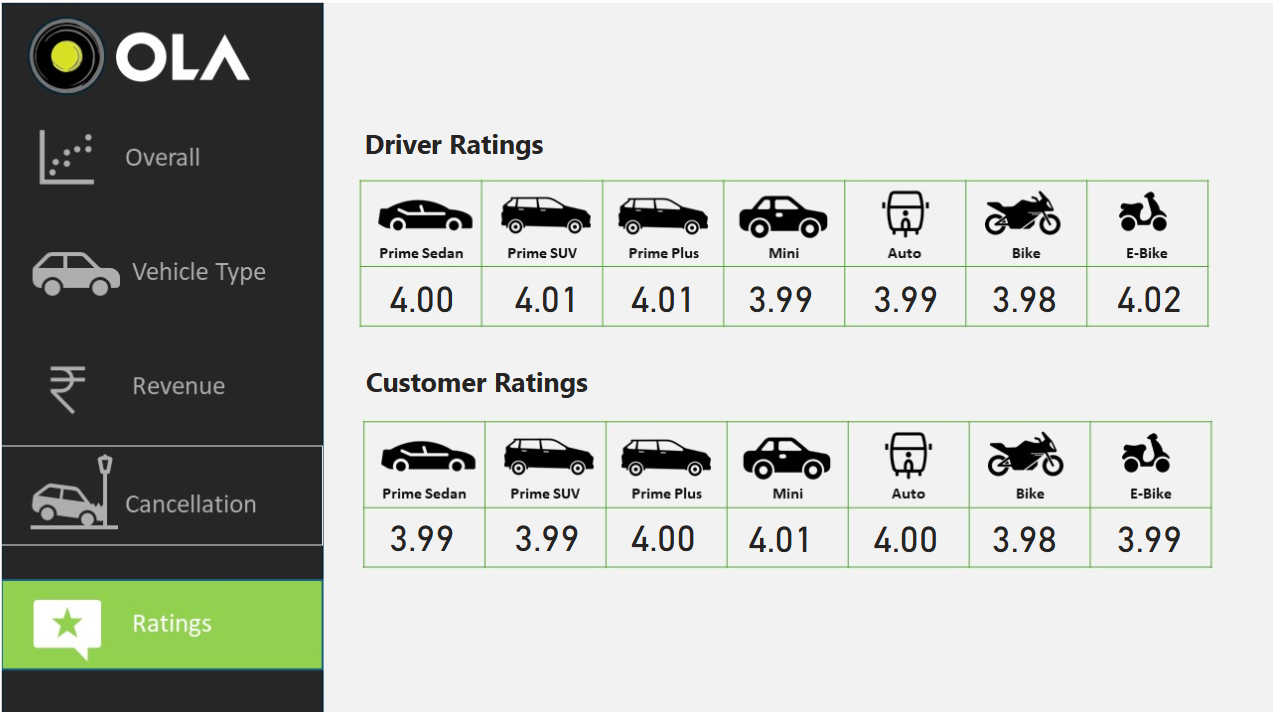

The page's visual inventory and layout, read from the dashboard file:
{"tool":"powerbi","page":{"name":"Rating","canvas":[1280,720],"ordinal":4},"visuals":[{"type":"image","box":[0,0,1280,720],"z":0},{"type":"actionButton","box":[0,226.2,326.2,92.5],"z":1000},{"type":"actionButton","box":[0,346.2,326.2,92.5],"z":2000},{"type":"actionButton","box":[0,447.5,326.2,100],"z":3000},{"type":"actionButton","box":[0,113.8,326.2,92.5],"z":4000},{"type":"card","fields":{"Values":["Avg(July.Driver_Ratings)"]},"box":[362.5,268.8,125,58.8],"z":5000},{"type":"card","fields":{"Values":["Avg(July.Driver_Ratings)"]},"box":[487.5,268.8,125,58.8],"z":6000},{"type":"card","fields":{"Values":["Avg(July.Driver_Ratings)"]},"box":[603.8,268.8,125,58.8],"z":7000},{"type":"card","fields":{"Values":["Avg(July.Driver_Ratings)"]},"box":[721.7,269.2,125,58.3],"z":8000},{"type":"card","fields":{"Values":["Avg(July.Driver_Ratings)"]},"box":[846.7,269.2,125,58.3],"z":9000},{"type":"card","fields":{"Values":["Avg(July.Driver_Ratings)"]},"box":[965,269.2,125,58.3],"z":10000},{"type":"card","fields":{"Values":["Avg(July.Driver_Ratings)"]},"box":[1090,269.2,125,58.3],"z":11000},{"type":"card","fields":{"Values":["Avg(July.Customer_Rating)"]},"box":[362.5,507.8,125,58.8],"z":12000},{"type":"card","fields":{"Values":["Avg(July.Customer_Rating)"]},"box":[487.5,507.8,125,58.8],"z":13000},{"type":"card","fields":{"Values":["Avg(July.Customer_Rating)"]},"box":[603.8,507.8,125,58.8],"z":14000},{"type":"card","fields":{"Values":["Avg(July.Customer_Rating)"]},"box":[721.7,508.2,125,58.3],"z":15000},{"type":"card","fields":{"Values":["Avg(July.Customer_Rating)"]},"box":[846.7,508.2,125,58.3],"z":16000},{"type":"card","fields":{"Values":["Avg(July.Customer_Rating)"]},"box":[965,508.2,125,58.3],"z":17000},{"type":"card","fields":{"Values":["Avg(July.Customer_Rating)"]},"box":[1090,508.2,125,58.3],"z":18000},{"type":"textbox","box":[362.5,122.5,226.2,57.5],"z":19000},{"type":"textbox","box":[363.8,360,260,57.5],"z":20000}]}

Visuals, with their boxes on the page's 1280x720 design canvas (x1, y1, x2, y2). These are canvas units, not pixel positions in the 1276x712 screenshot, which may show the page scaled, cropped or inside an application window:
image: region(0, 0, 1280, 720)
actionButton: region(0, 226, 326, 319)
actionButton: region(0, 346, 326, 439)
actionButton: region(0, 448, 326, 548)
actionButton: region(0, 114, 326, 206)
card - Avg(July.Driver_Ratings): region(362, 269, 488, 328)
card - Avg(July.Driver_Ratings): region(488, 269, 612, 328)
card - Avg(July.Driver_Ratings): region(604, 269, 729, 328)
card - Avg(July.Driver_Ratings): region(722, 269, 847, 328)
card - Avg(July.Driver_Ratings): region(847, 269, 972, 328)
card - Avg(July.Driver_Ratings): region(965, 269, 1090, 328)
card - Avg(July.Driver_Ratings): region(1090, 269, 1215, 328)
card - Avg(July.Customer_Rating): region(362, 508, 488, 567)
card - Avg(July.Customer_Rating): region(488, 508, 612, 567)
card - Avg(July.Customer_Rating): region(604, 508, 729, 567)
card - Avg(July.Customer_Rating): region(722, 508, 847, 566)
card - Avg(July.Customer_Rating): region(847, 508, 972, 566)
card - Avg(July.Customer_Rating): region(965, 508, 1090, 566)
card - Avg(July.Customer_Rating): region(1090, 508, 1215, 566)
textbox: region(362, 122, 589, 180)
textbox: region(364, 360, 624, 418)
